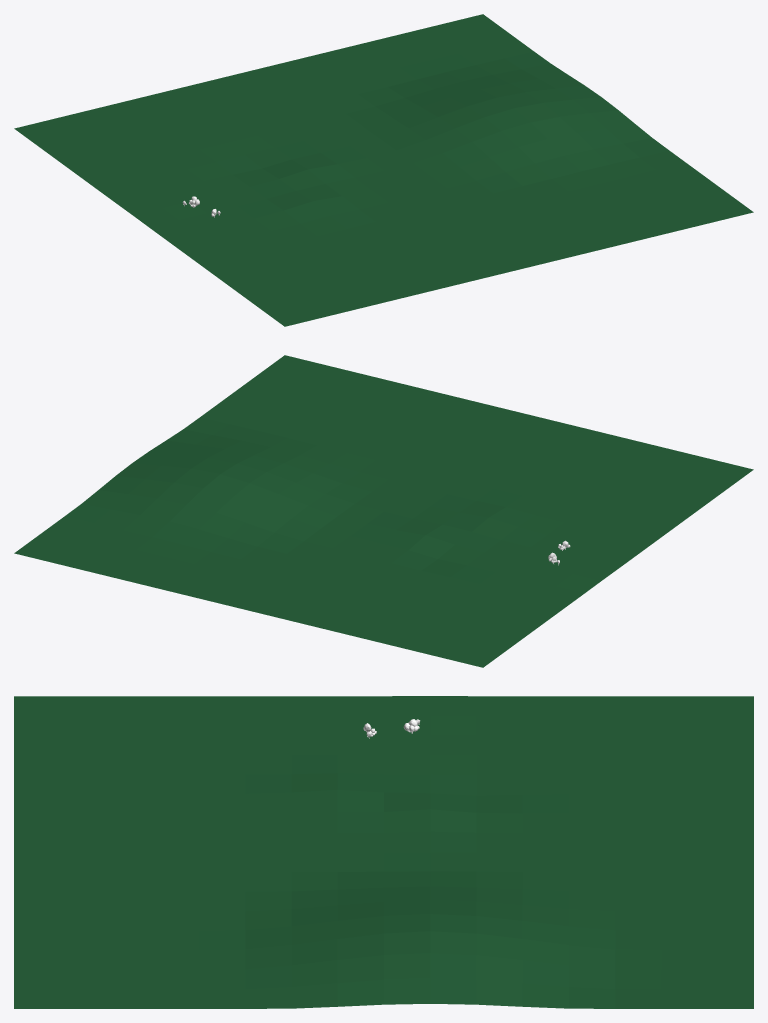
Rendered from ceres_omgeving.glb.
3 views of the same model, one above another, from view 1: azimuth 30°, elevation 25°; view 2: azimuth 150°, elevation 25°; view 3: azimuth 270°, elevation 25° (orthographic). The views are drawn at different scales.
Parts seen in each view (by area): view 1: grond; view 2: grond; view 3: grond.
Part boxes in pixels (left/top/right/bottom): grond: left=14, top=14, right=753, bottom=326; grond: left=14, top=355, right=753, bottom=667; grond: left=14, top=696, right=753, bottom=1008.
Bounding box in the file's own units: 500 × 18.01 × 500.
